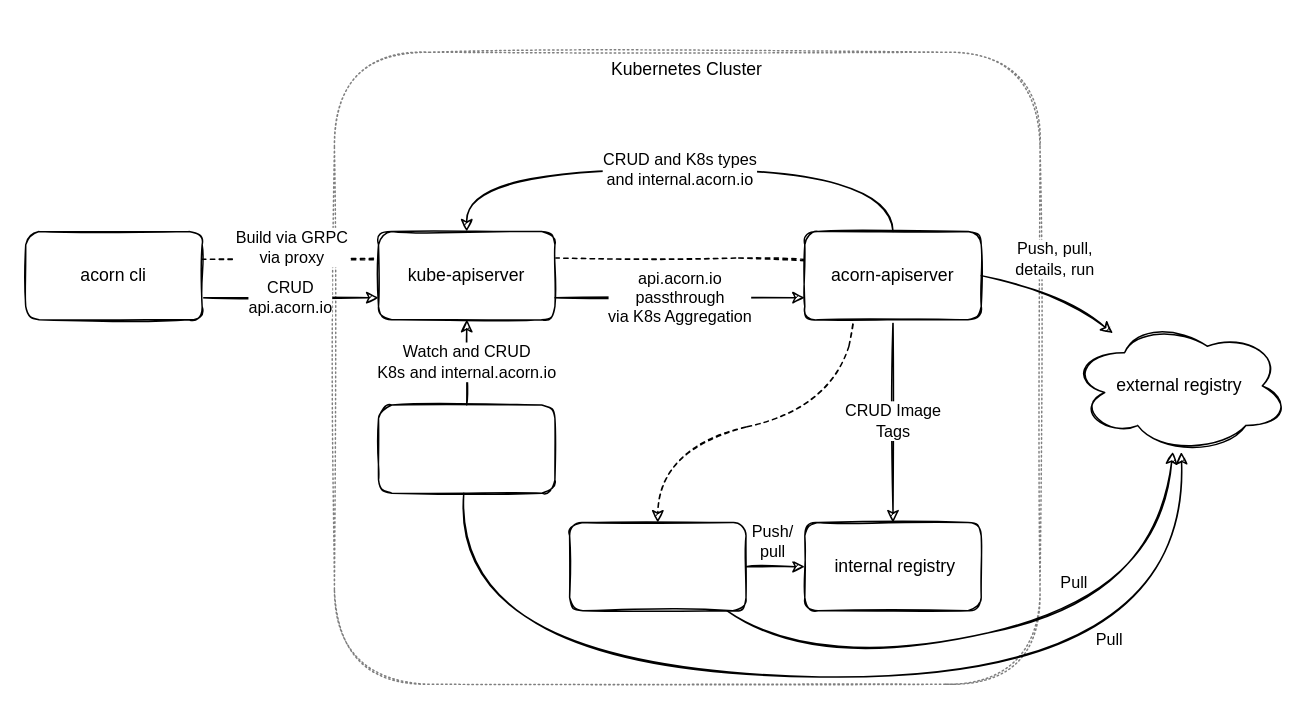
Some shapes in this 1316 by 710 pixel diagram are drawn without their labels. The centre of each missing label's shape, as x and y in pixels:
"acorn-controller" belongs at pixel 466 448.
"buildkit" belongs at pixel 657 566.
